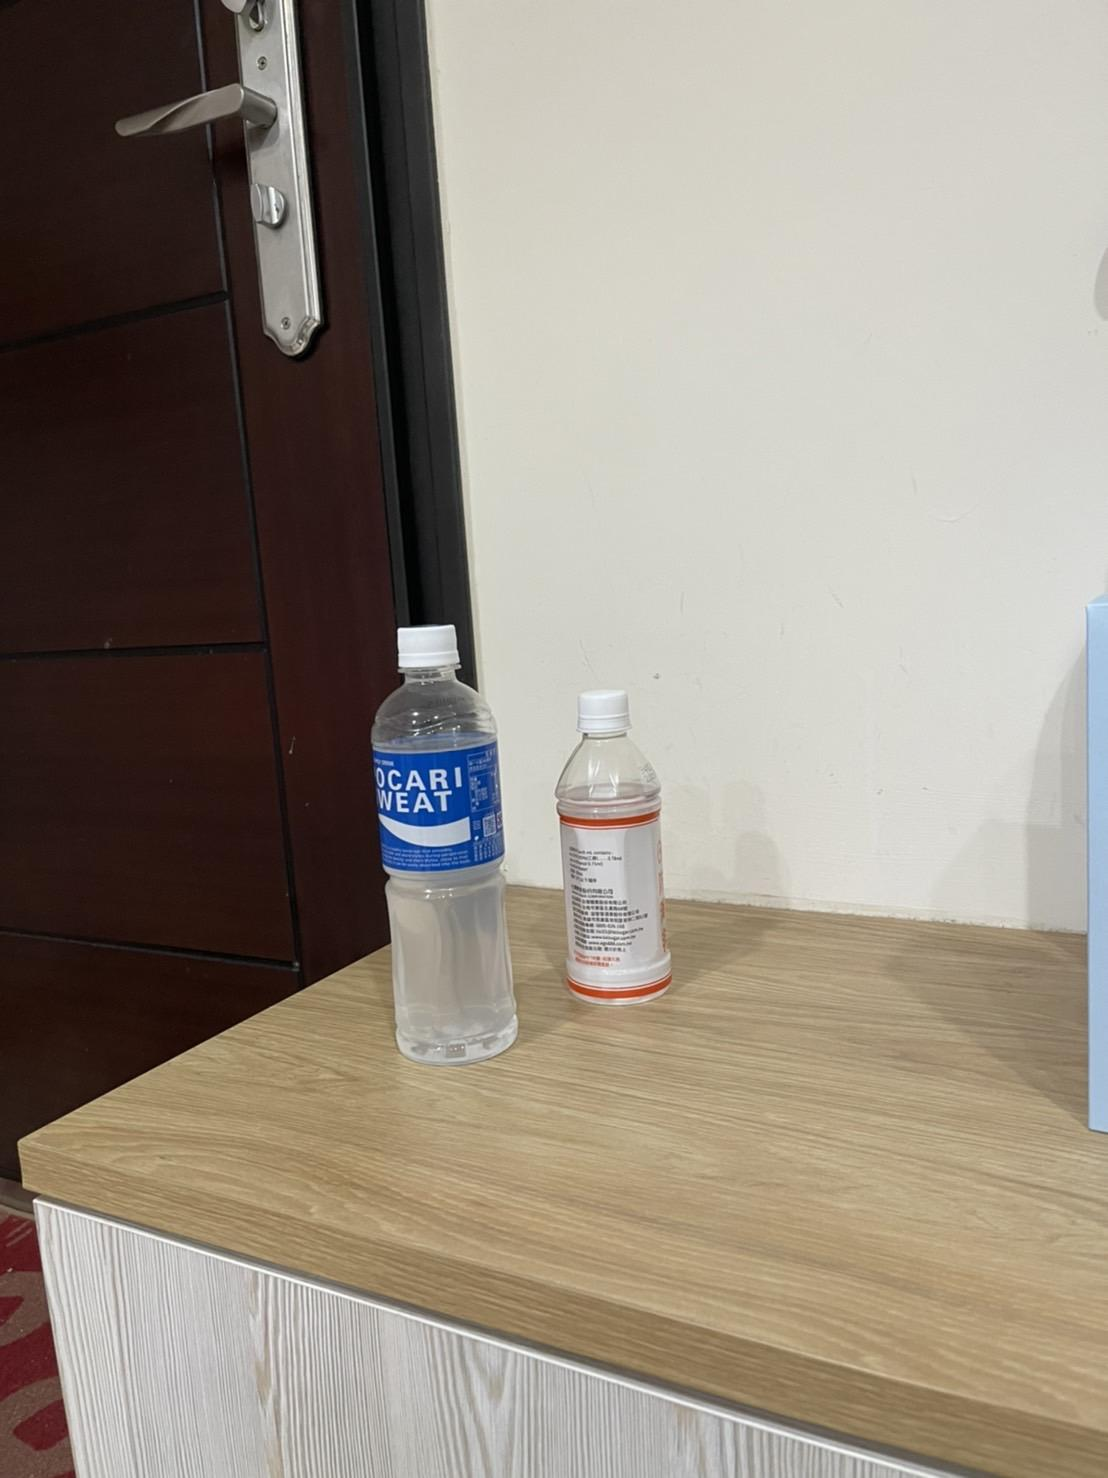bottle: (385, 0, 504, 347), (0, 0, 79, 280)
